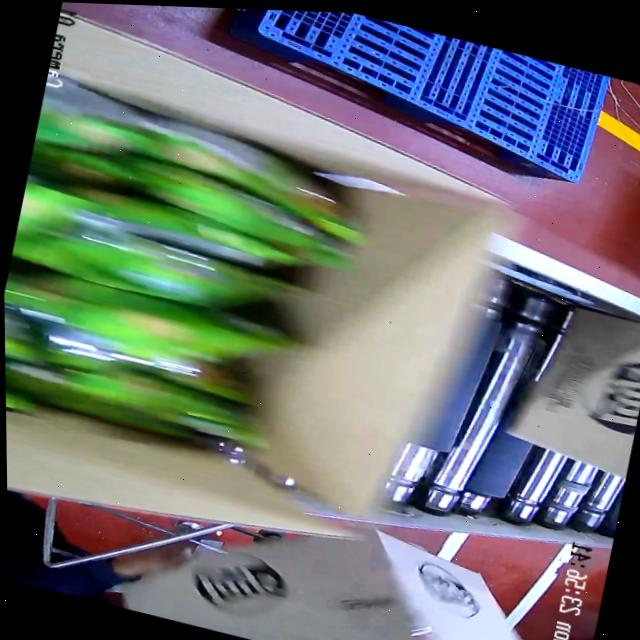YOGURT_HERB: (1, 80, 356, 496)
